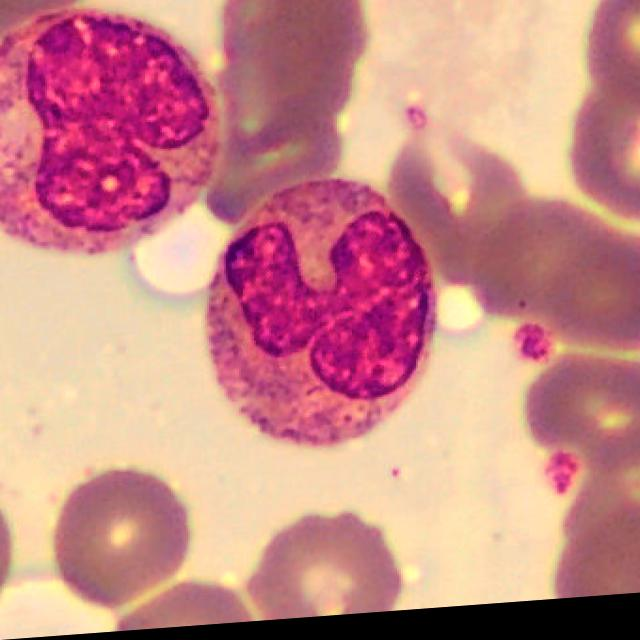Neutrofilo segmentado: (207, 179, 437, 453)
